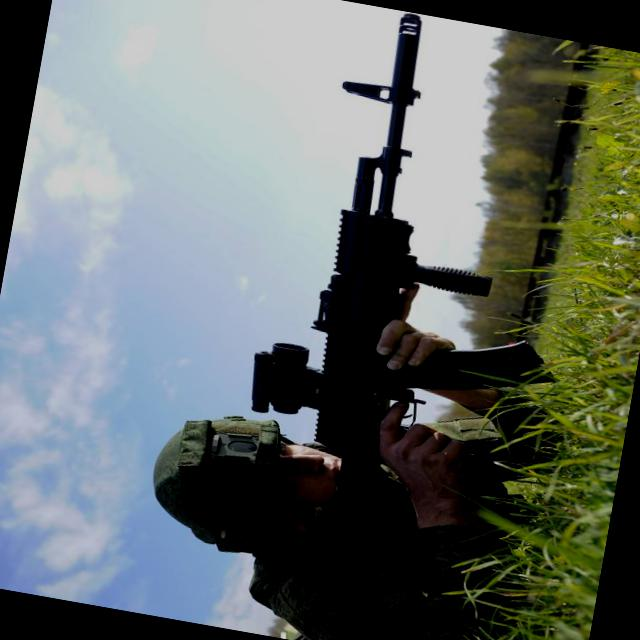long weapon: (239, 0, 513, 442)
